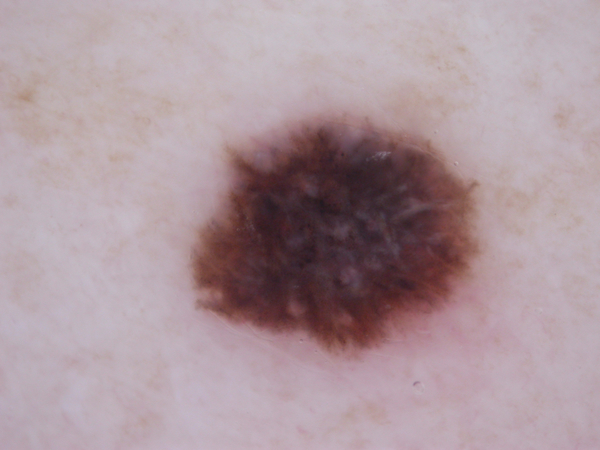Detected Lesion: (184, 114, 502, 360)
